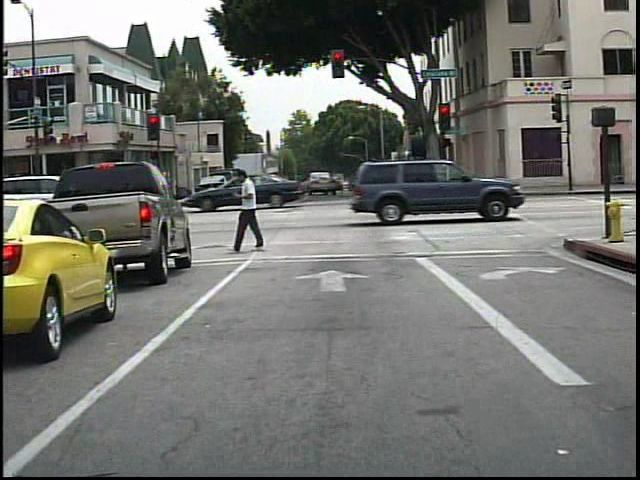person: (232, 166, 273, 253), (271, 164, 298, 208)
